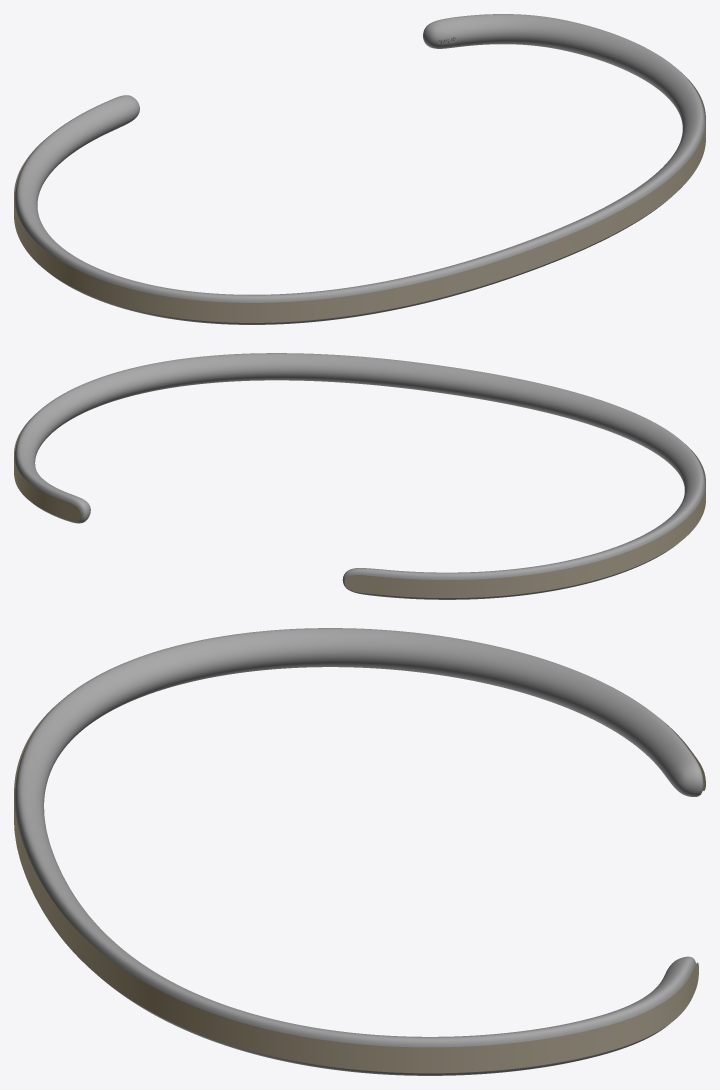
File: bold-silver.glb
3 views of the same model, one above another, from view 1: azimuth 30°, elevation 25°; view 2: azimuth 150°, elevation 25°; view 3: azimuth 270°, elevation 25° (orthographic). The views are drawn at different scales.
Parts seen in each view (by area): view 1: bold-body.004, bpld-omote.004; view 2: bold-body.004, bpld-omote.004; view 3: bold-body.004, bpld-omote.004.
Part boxes in pixels (<box>): bold-body.004: <box>14,14,705,324</box>; bpld-omote.004: <box>14,72,705,322</box>; bold-body.004: <box>14,353,705,599</box>; bpld-omote.004: <box>14,413,705,597</box>; bold-body.004: <box>14,628,703,1075</box>; bpld-omote.004: <box>14,704,705,1073</box>.
Size of the model in its own units: 3.4 by 0.1422 by 2.39.
2 materials, 2 textured.
